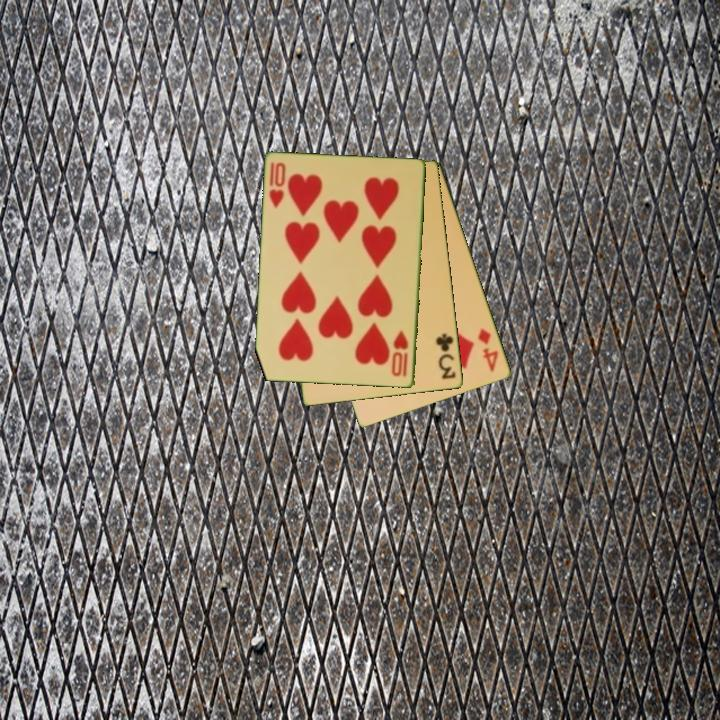10h: (266, 159, 289, 212), (389, 327, 411, 380)
3c: (433, 330, 459, 382)
4d: (474, 325, 501, 375)
